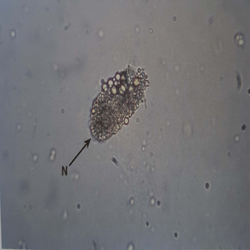Epithelial: (71, 59, 162, 143)
